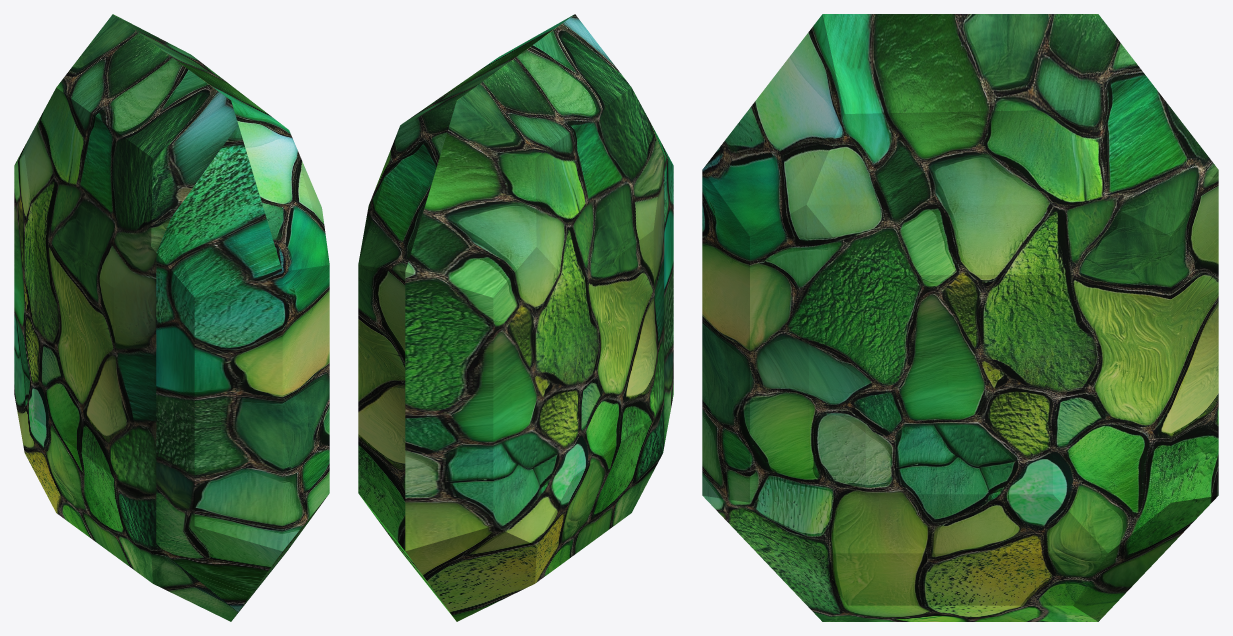
The model's file is gemstone8Green.glb.
3 views of the same model, side by side, from view 1: azimuth 30°, elevation 25°; view 2: azimuth 150°, elevation 25°; view 3: azimuth 270°, elevation 25° (orthographic). The views are drawn at different scales.
Visible parts, largest first — view 1: gemstone7; view 2: gemstone7; view 3: gemstone7.
Part boxes in pixels (left/top/right/bottom): gemstone7: left=14, top=14, right=329, bottom=621; gemstone7: left=358, top=14, right=673, bottom=621; gemstone7: left=702, top=14, right=1218, bottom=621.
Bounding box in the file's own units: 0.5 × 1.3 × 1.
1 material, 1 textured.
